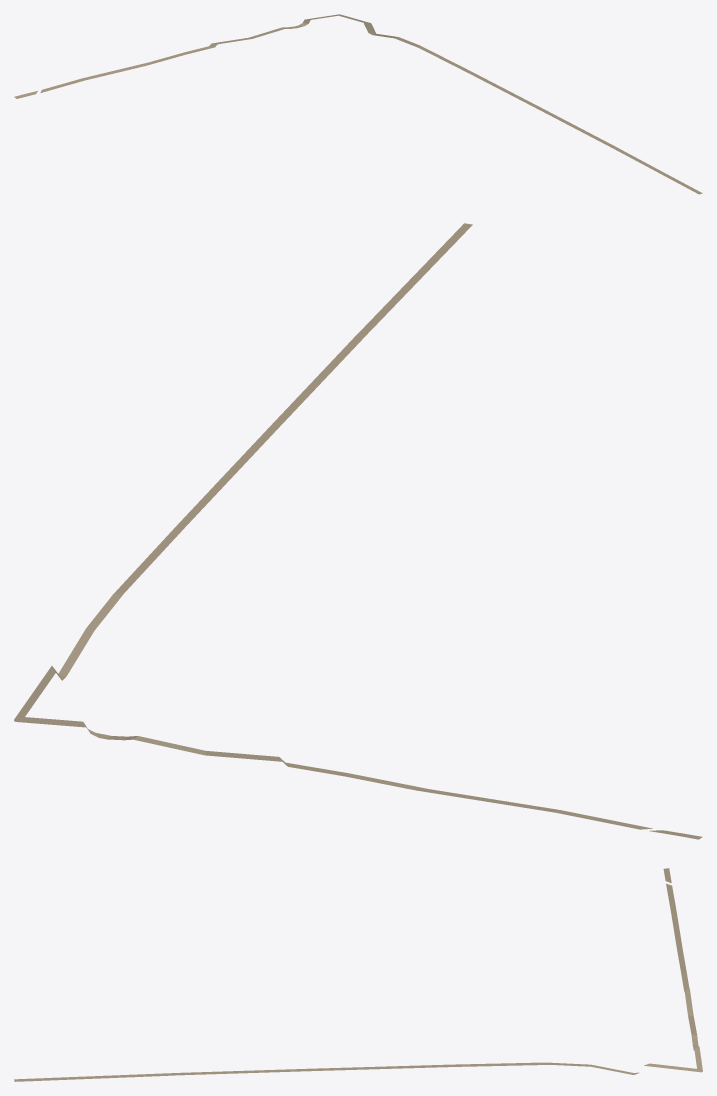
File: farm_4_15_track.glb
3 renders of one model, top to bottom at view 1: azimuth 30°, elevation 25°; view 2: azimuth 150°, elevation 25°; view 3: azimuth 270°, elevation 25°, orthographic. The views are drawn at different scales.
Parts seen in each view (by area): view 1: geometry_0; view 2: geometry_0; view 3: geometry_0.
Boxes of the visible parts, <box> form: geometry_0: <box>14,14,702,194</box>; geometry_0: <box>14,223,702,839</box>; geometry_0: <box>14,868,702,1081</box>.
Bounding box in the file's own units: 310 × 17.19 × 396.
